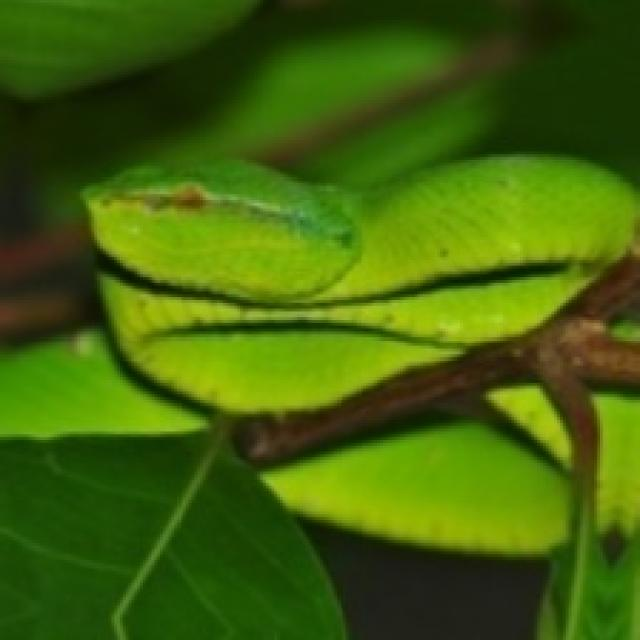north ph temple pitviper: (86, 154, 637, 637)
